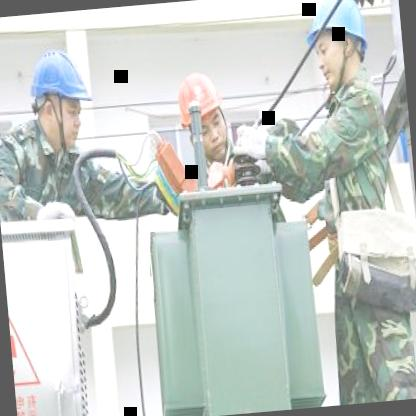helmet: (20, 41, 96, 161), (295, 0, 378, 98), (170, 65, 232, 160)
